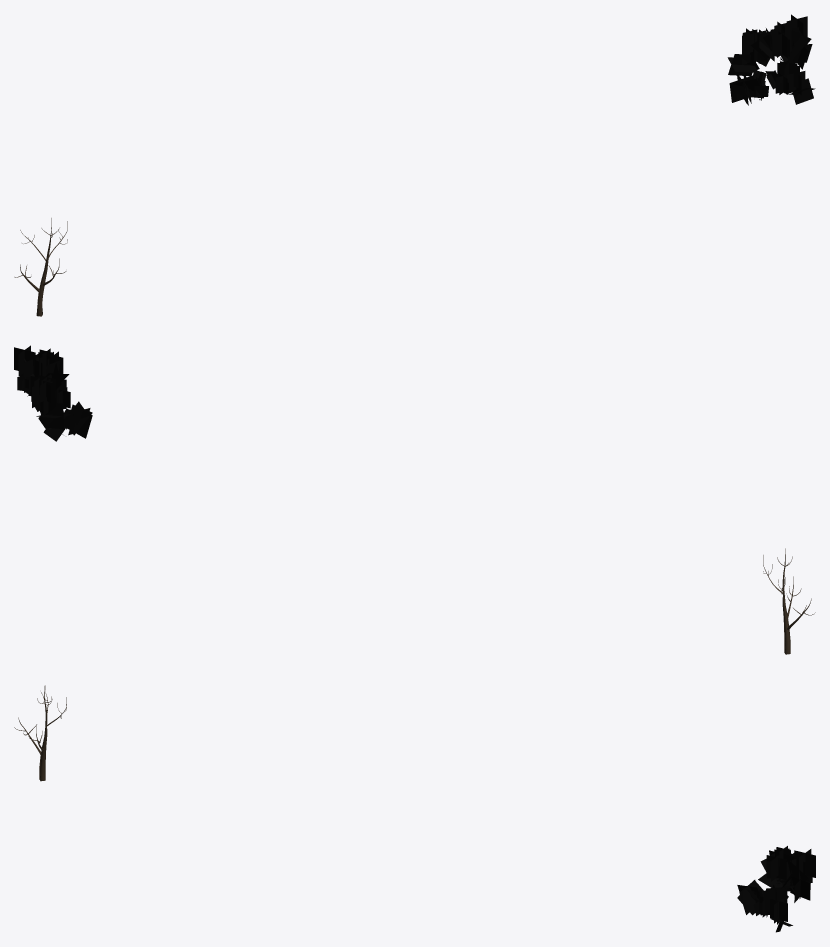
File: no_leaves_tree_two.glb
3 views of the same model, one above another, from view 1: azimuth 30°, elevation 25°; view 2: azimuth 150°, elevation 25°; view 3: azimuth 330°, elevation 25° (orthographic).
Visible parts, largest first — view 1: leaves.010_24, trunk.010_25.001; view 2: leaves.010_24, trunk.010_25.001; view 3: leaves.010_24, trunk.010_25.001.
Boxes of the visible parts, box(x1,y1,x2,y2) form: leaves.010_24: box(727, 14, 815, 105); trunk.010_25.001: box(14, 218, 67, 316); leaves.010_24: box(14, 345, 92, 441); trunk.010_25.001: box(763, 548, 815, 654); leaves.010_24: box(737, 846, 815, 932); trunk.010_25.001: box(14, 685, 66, 781).
Size of the model in its own units: 348 by 48.27 by 30.96.
Materials: 3 (3 with a texture image).
